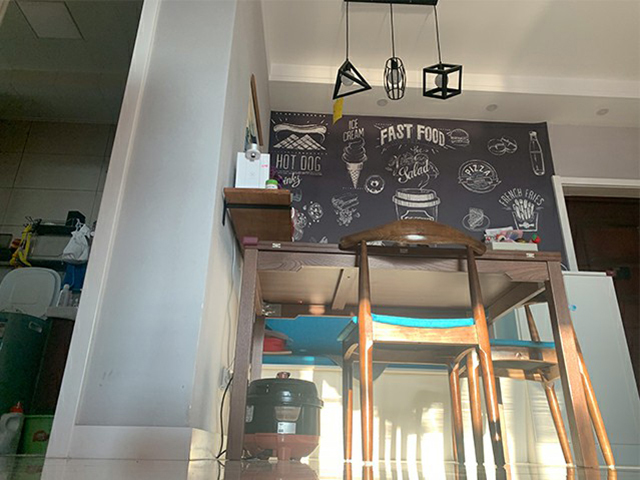cabinet: (497, 270, 640, 470)
stool: (337, 217, 506, 469), (450, 292, 617, 470)
table: (226, 235, 601, 469)
wire: (215, 376, 273, 462)
